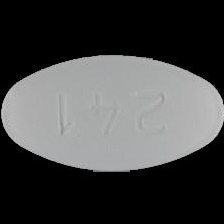42254-097: (0, 0, 224, 224)
